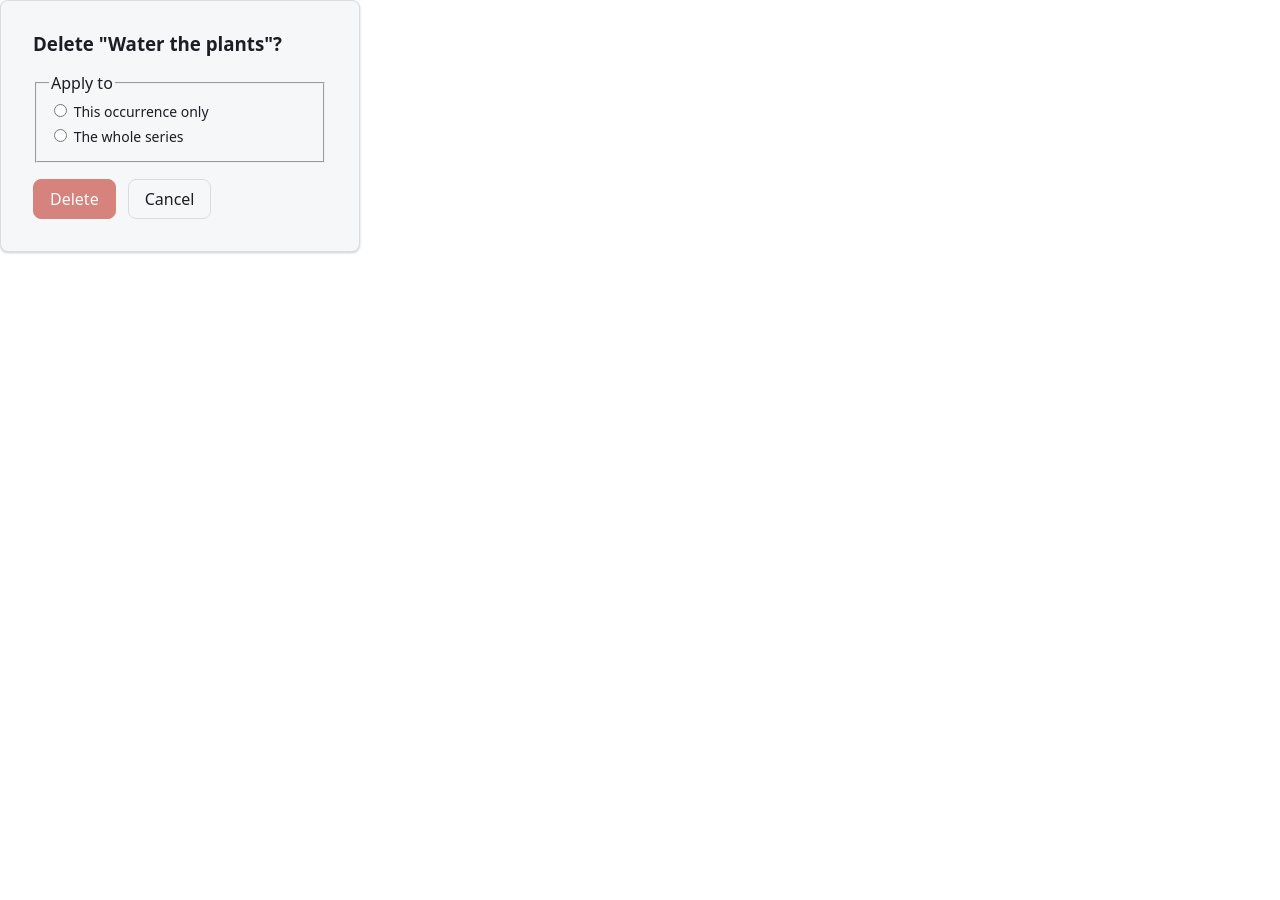
Scenario: DeleteTaskDialog (design doc §3.8, Rev 11) › names how many open occurrences the whole-series delete removes, including started ones
Click the radio button labelled "The whole series". click: coordinates (60, 136)
box: x1=54 y1=129 x2=67 y2=142
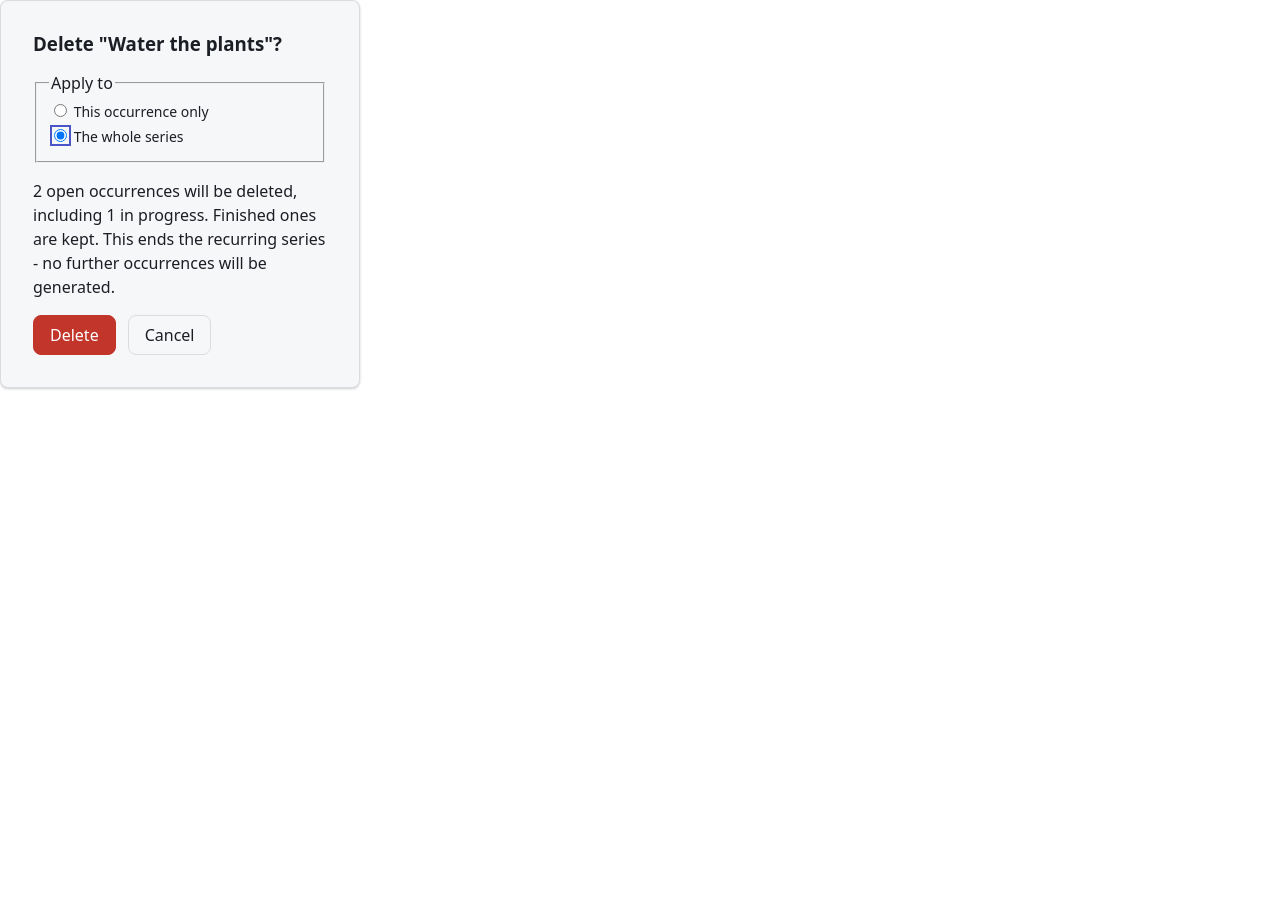
Expected: the text "2 open occurrences will be deleted, including 1 in progress." is shown, x1=33 y1=180 x2=297 y2=226
Expected: the text "Finished ones are kept" is shown, x1=33 y1=204 x2=326 y2=298
